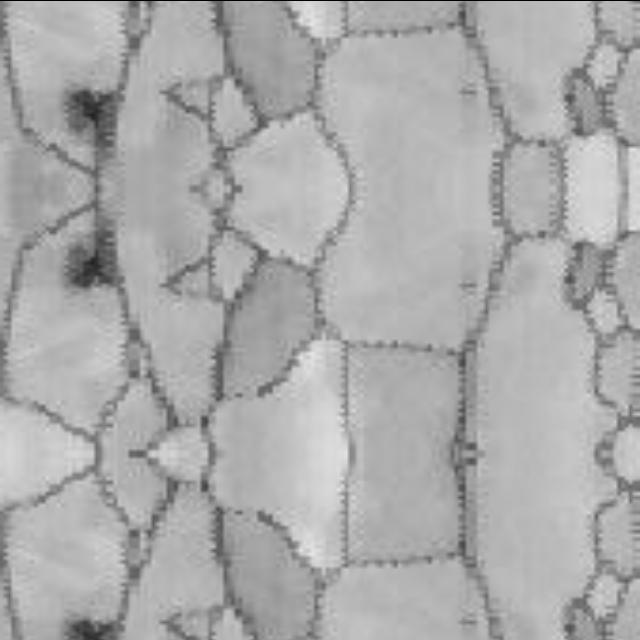good_void: (59, 224, 125, 292), (59, 82, 125, 150), (59, 613, 125, 640)
